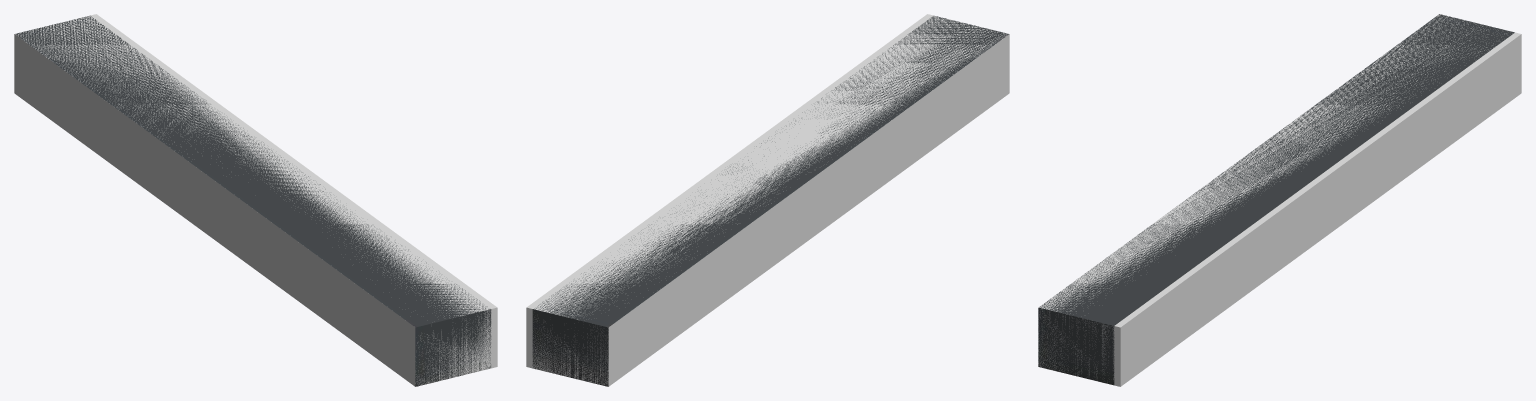
Rendered from bleachers.glb.
3 renders of one model, left to right at view 1: azimuth 30°, elevation 25°; view 2: azimuth 150°, elevation 25°; view 3: azimuth 330°, elevation 25°, orthographic.
Visible parts, largest first — view 1: COL_Body, Bleachers; view 2: COL_Body, Bleachers; view 3: COL_Body, Bleachers.
Boxes of the visible parts, x1,y1,x2,y2 form: COL_Body: (14,14,497,386); Bleachers: (15,15,491,386); COL_Body: (526,14,1009,386); Bleachers: (532,16,1008,386); COL_Body: (1038,14,1521,386); Bleachers: (1038,14,1514,385).
Bounding box in the file's own units: 2.6 × 1.8 × 22.
Materials: 2 (2 with a texture image).
